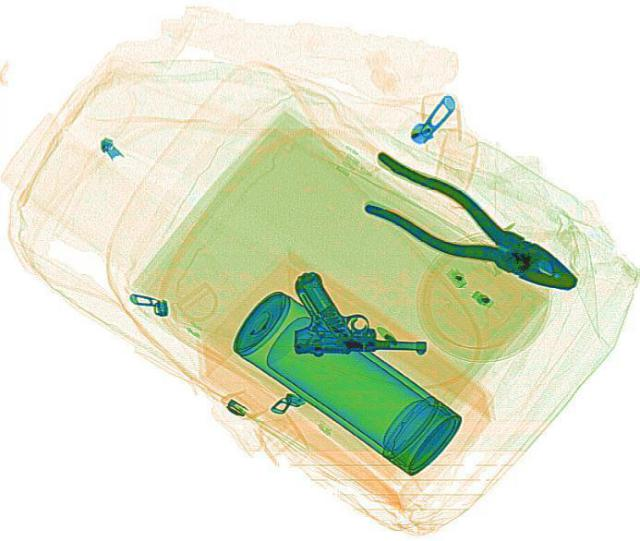Gun: (286, 270, 432, 355)
Pliers: (336, 146, 594, 309)
